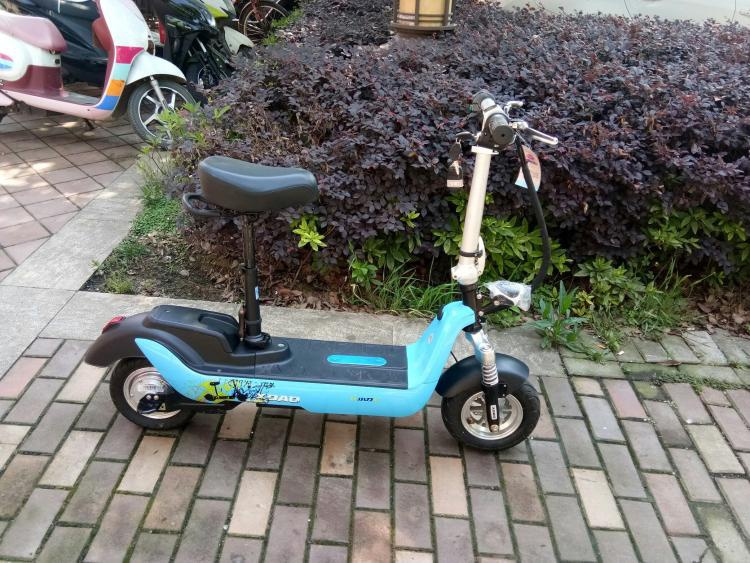non-vehicle: (100, 86, 540, 454), (0, 1, 198, 148)
